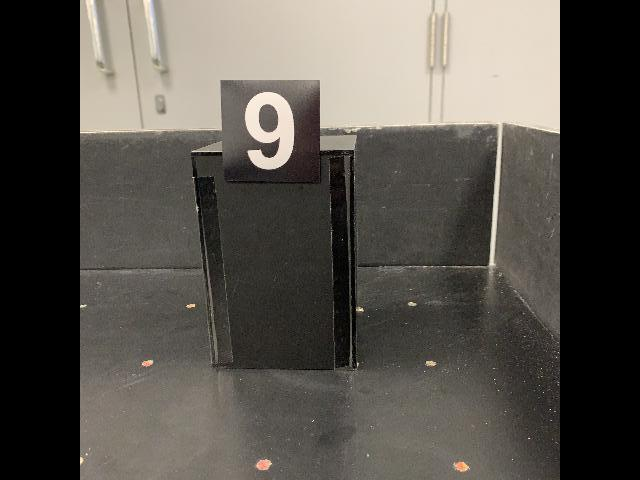nine: (219, 78, 323, 183)
